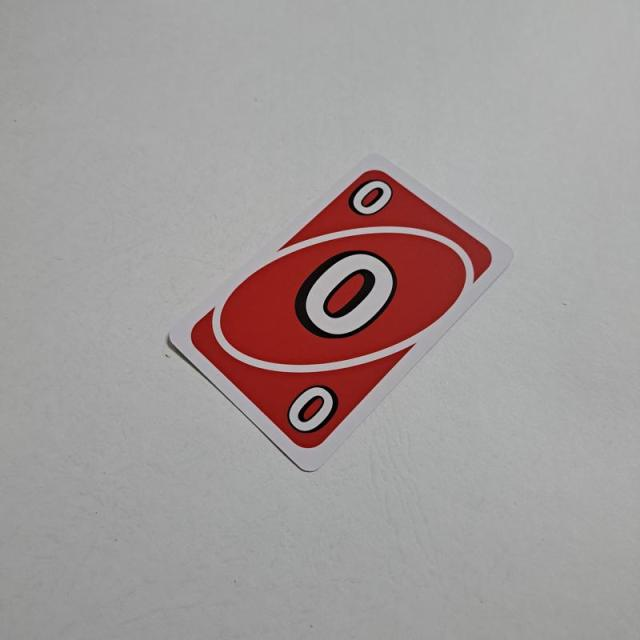Number_0: (348, 170, 396, 218)
Red_Card: (187, 164, 503, 456)
